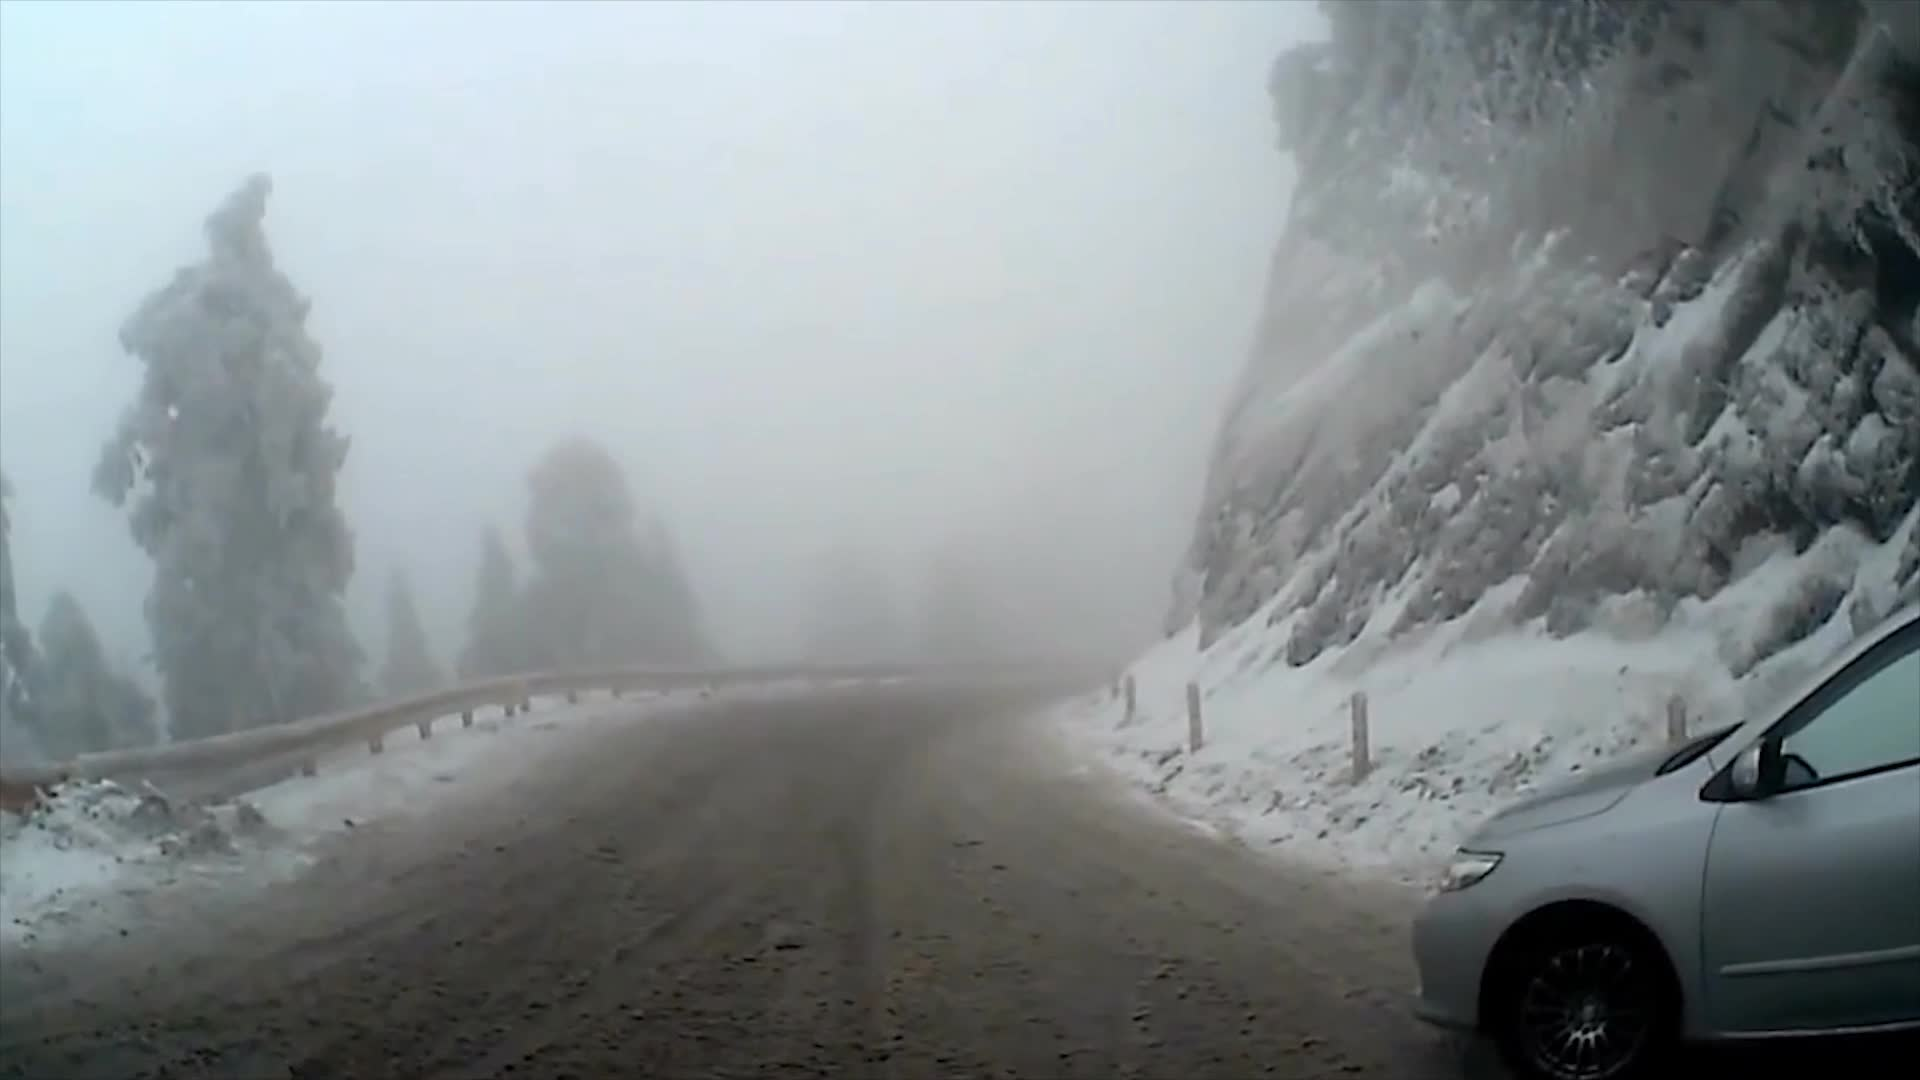vehicle: (1408, 597, 1920, 1080)
